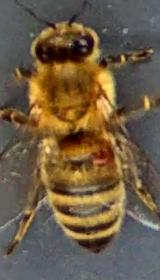varroa_mite: (78, 139, 122, 176)
